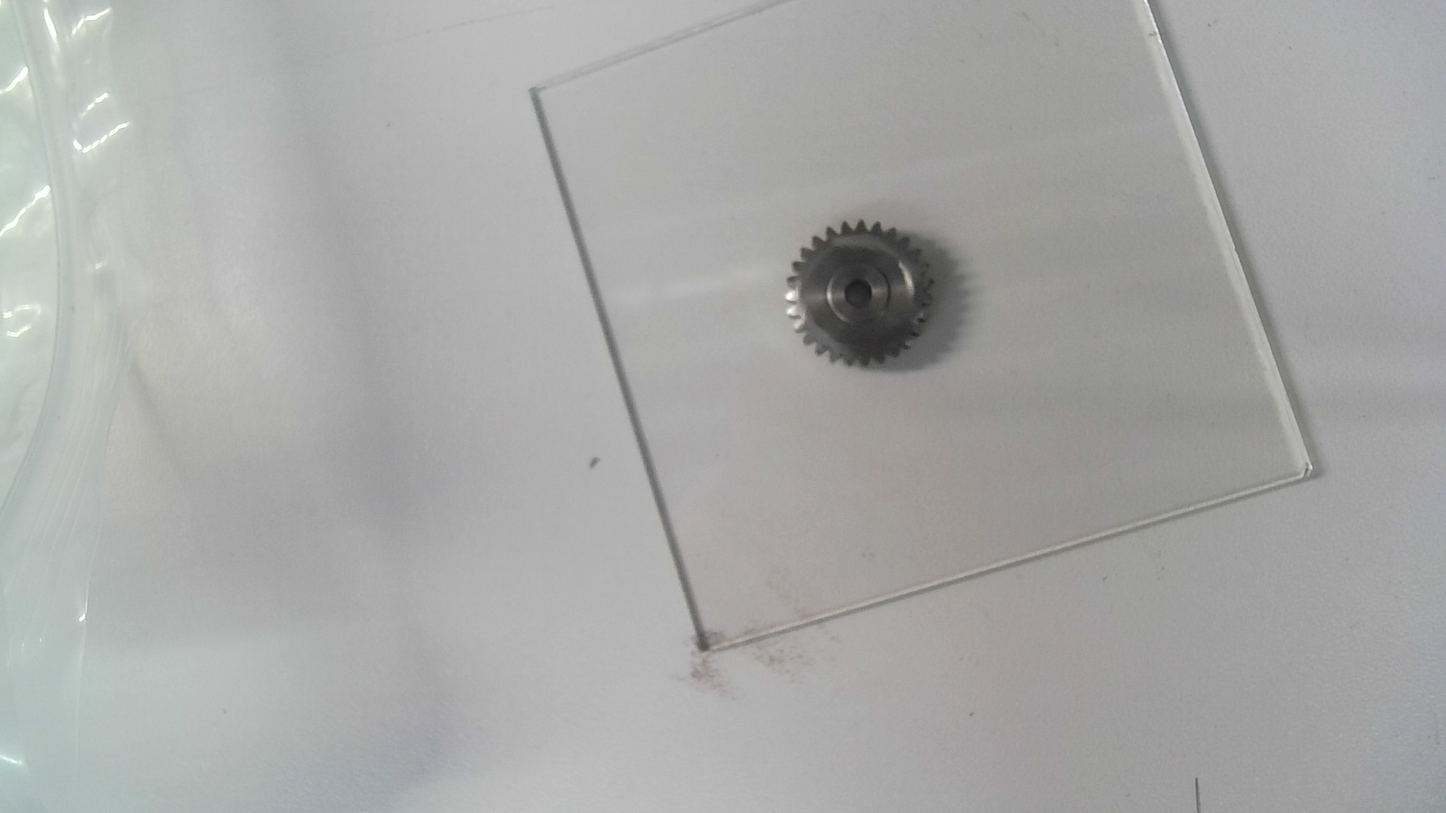gear: (780, 217, 941, 373)
